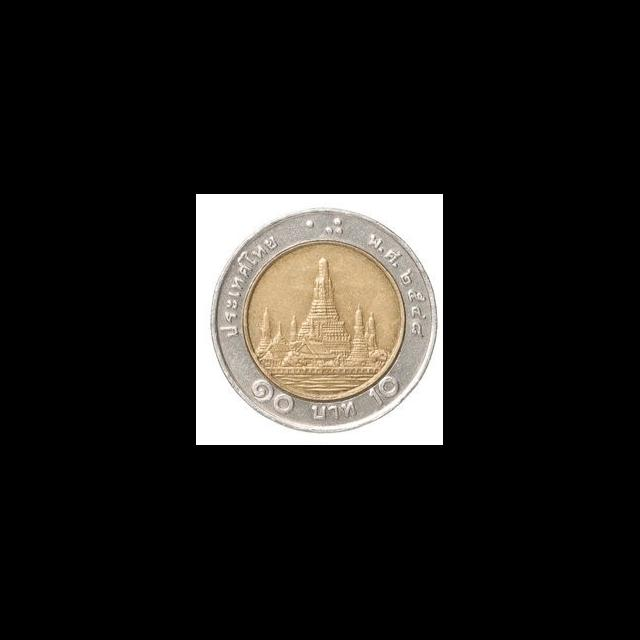10-baht: (196, 194, 444, 446)
